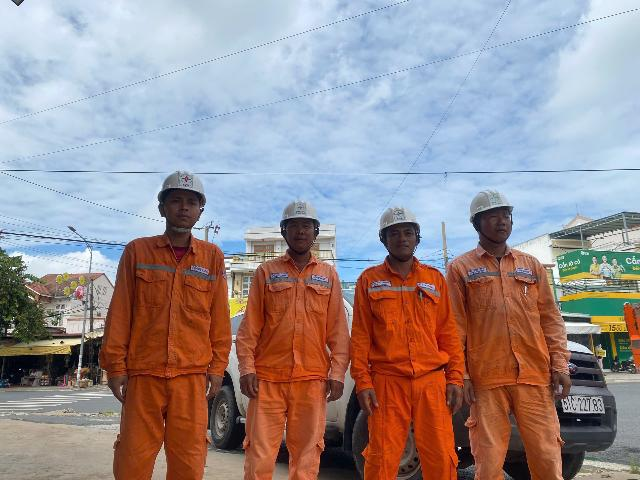helmet: (144, 148, 220, 218), (456, 176, 518, 224), (363, 198, 431, 238), (270, 198, 322, 226)
